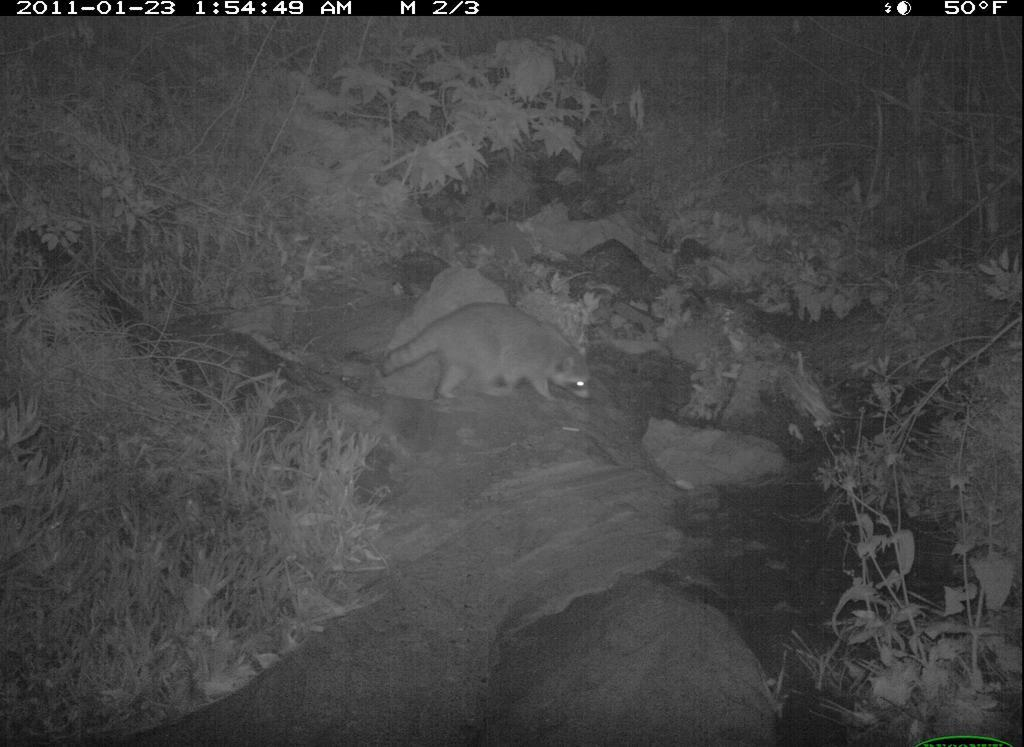raccoon: (368, 297, 607, 414)
